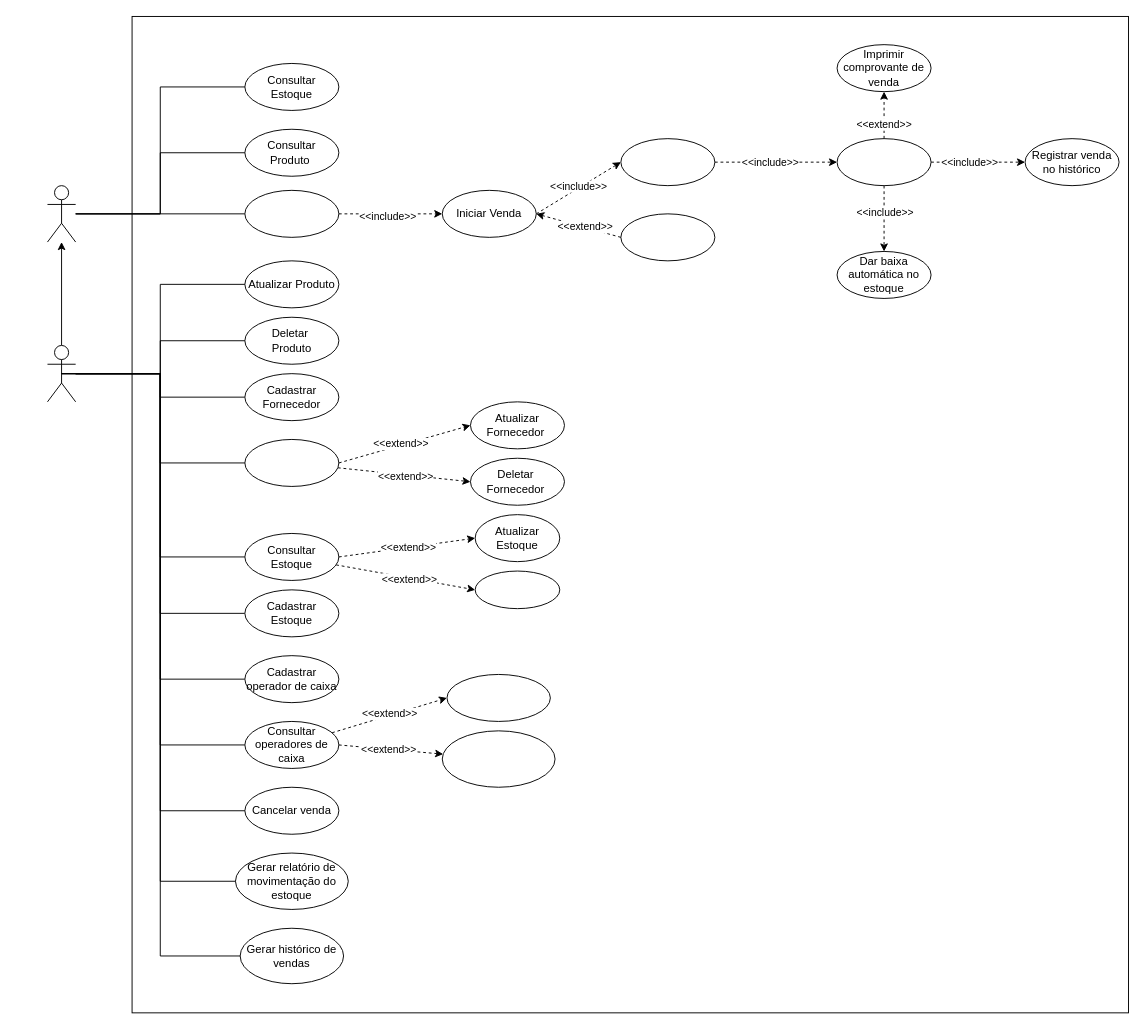
Some shapes in this 1145 by 1029 pixel diagram are drawn without their labels. Each missing label, with the centre of its shape:
"Atualizar informações operador de caixa" belongs at (x=498, y=758).
"Consultar Fornecedor" belongs at (x=291, y=462).
"Deletar Estoque" belongs at (x=517, y=589).
"Deletar operador de caixa" belongs at (x=498, y=697).
"Finalizar venda" belongs at (x=883, y=162).
"Funcionário Caixa" belongs at (x=61, y=213).
"Gerente" belongs at (x=61, y=373).
"Ler código de barra do produto" belongs at (x=291, y=213).
"Ler outro código de barra" belongs at (x=667, y=237).
"Processar pagamento" belongs at (x=667, y=162).
